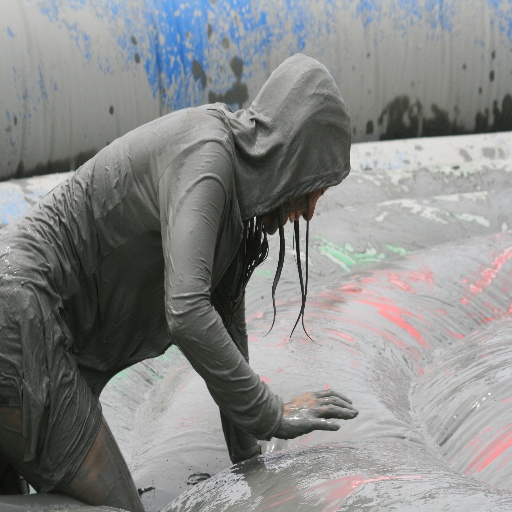hand: (269, 379, 360, 442), (257, 434, 291, 454)
